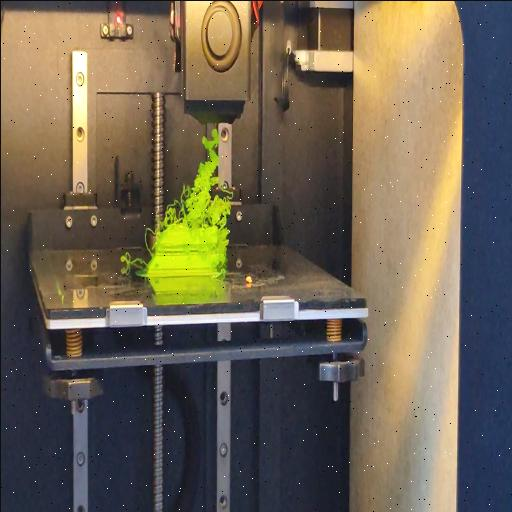spaghetti: (154, 126, 231, 230), (118, 252, 142, 274), (218, 230, 228, 274), (143, 225, 155, 261)
